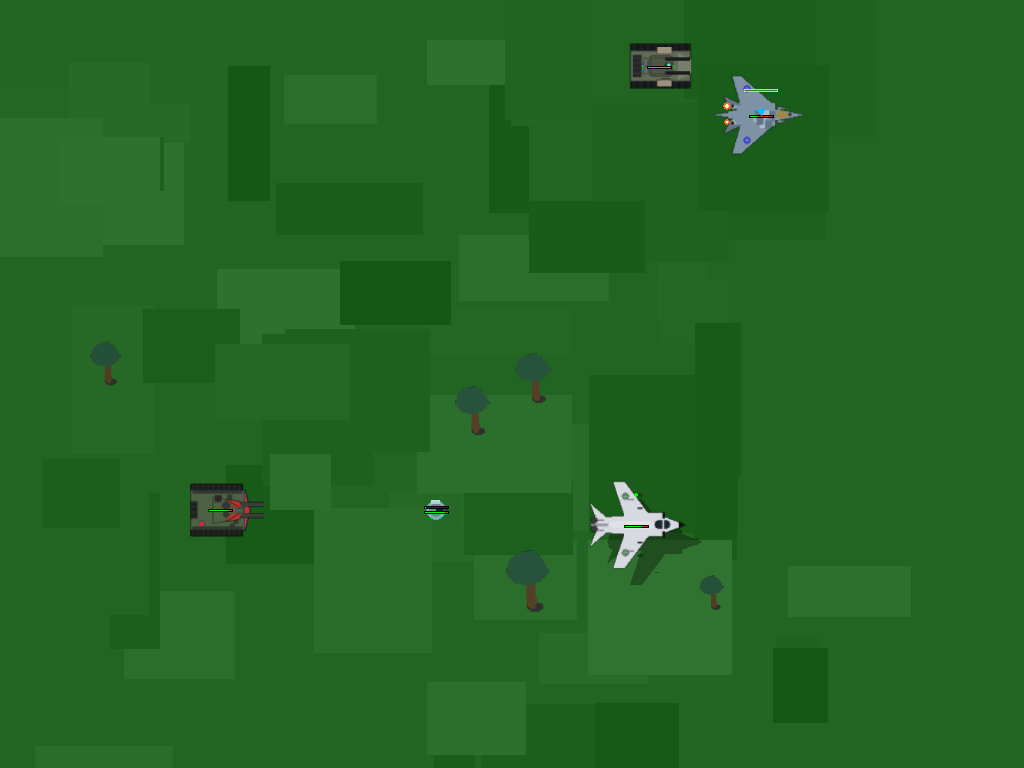AttackPlane_rus: (609, 496, 663, 550)
Bunker: (419, 494, 451, 526)
MiningRig: (190, 478, 249, 537)
RocketTrooper: (738, 91, 784, 137)
TerminatorIFV: (632, 38, 686, 92)
